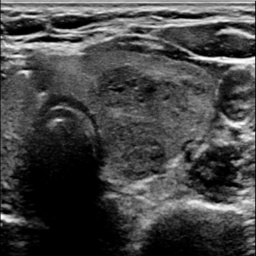mass: (84, 52, 215, 178)
